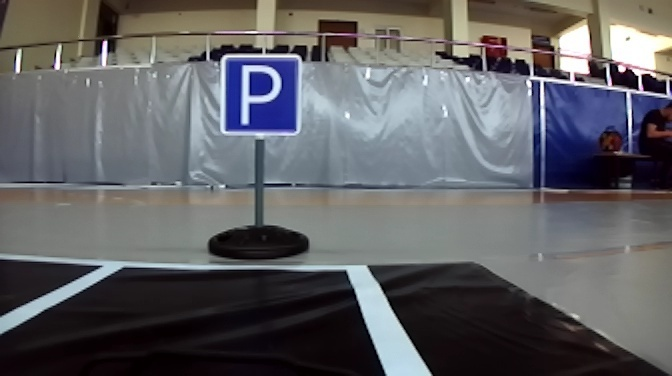park: (220, 54, 300, 136)
